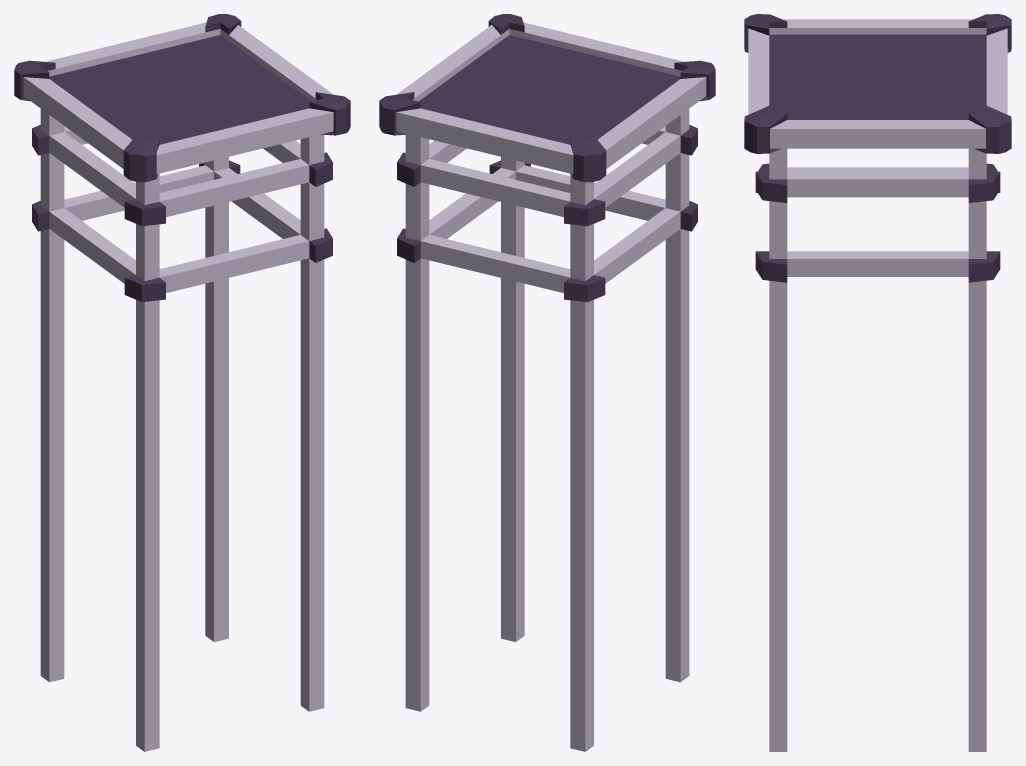
Rendered from FBX_PLATEFORME.fbx.
3 renders of one model, left to right at view 1: azimuth 30°, elevation 25°; view 2: azimuth 150°, elevation 25°; view 3: azimuth 270°, elevation 25°, orthographic. The views are drawn at different scales.
Visible parts, largest first — view 1: pCube61; view 2: pCube61; view 3: pCube61.
Boxes of the visible parts, x1,y1,x2,y2 form: pCube61: (14, 14, 350, 751); pCube61: (379, 14, 715, 751); pCube61: (744, 14, 1011, 751).
Bounding box in the file's own units: 206 × 542 × 206.
